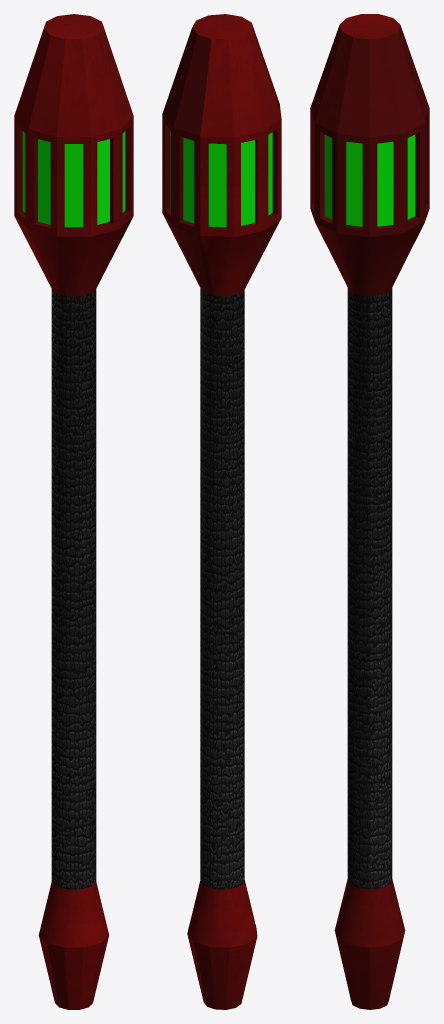
Rendered from Wand.FBX.
3 views of the same model, side by side, from view 1: azimuth 90°, elevation 25°; view 2: azimuth 150°, elevation 25°; view 3: azimuth 270°, elevation 25° (orthographic).
Parts seen in each view (by area): view 1: Cylinder001; view 2: Cylinder001; view 3: Cylinder001.
Boxes of the visible parts, left/top/right/bottom form: Cylinder001: left=14, top=14, right=133, bottom=1009; Cylinder001: left=162, top=14, right=281, bottom=1009; Cylinder001: left=310, top=14, right=429, bottom=1009.
Bounding box in the file's own units: 15.51 × 141 × 15.67.
